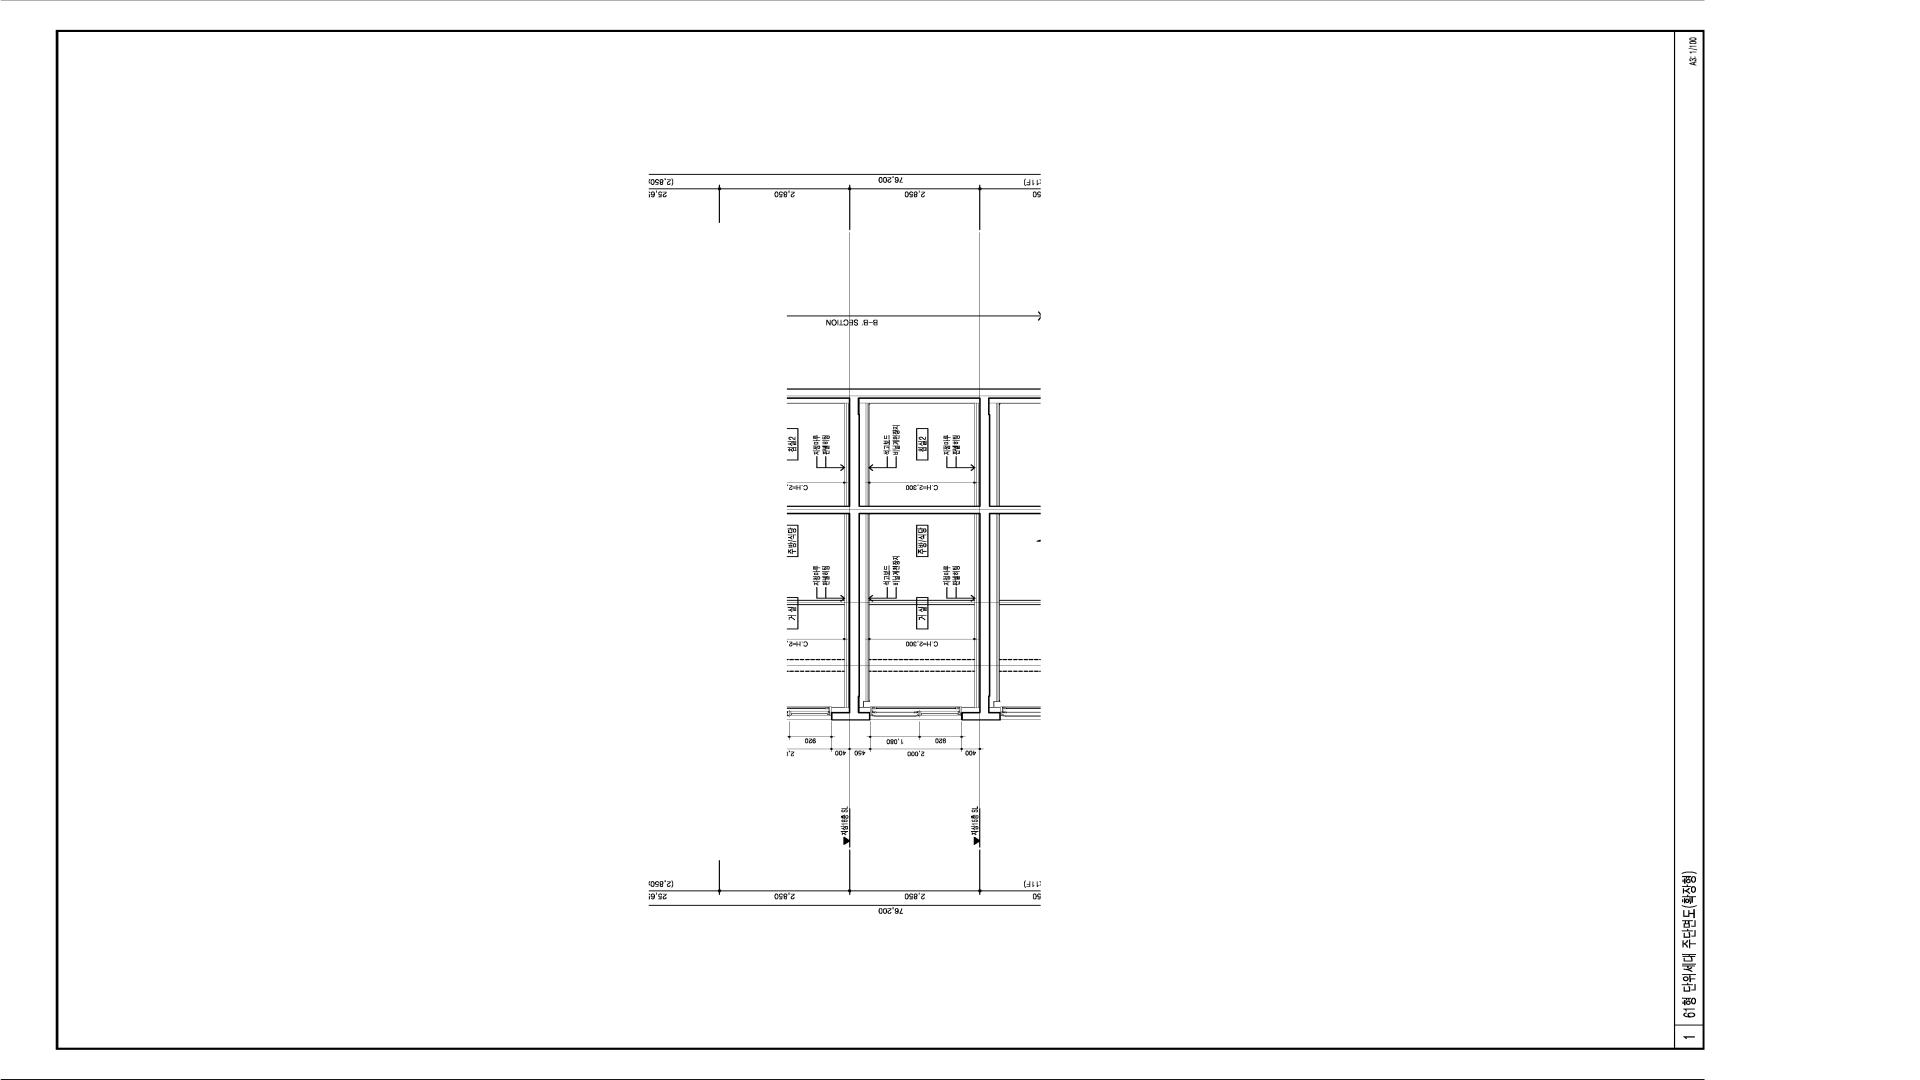wall: (849, 388, 979, 721), (961, 388, 990, 721), (870, 597, 975, 605), (860, 399, 979, 403)
window: (870, 707, 962, 720)
